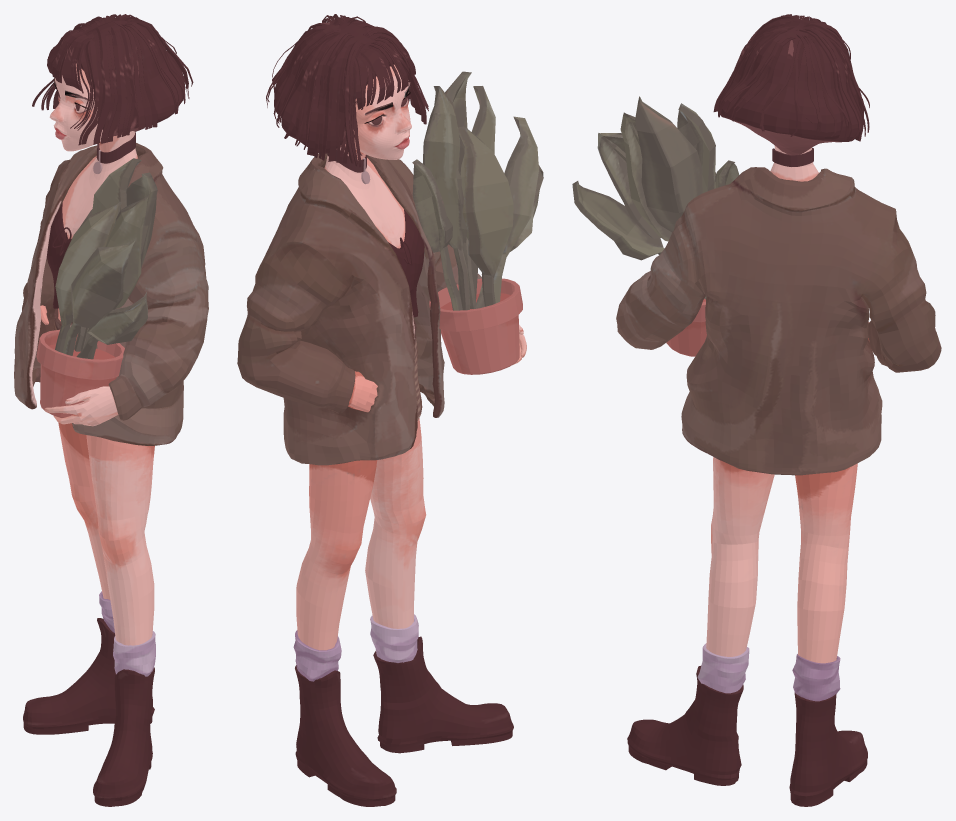
File: matilda.gltf
3 renders of one model, left to right at view 1: azimuth 30°, elevation 25°; view 2: azimuth 150°, elevation 25°; view 3: azimuth 270°, elevation 25°, orthographic. The views are drawn at different scales.
Parts seen in each view (by area): view 1: polySurface80, polySurface74, polySurface87, polySurface86, polySurface67, polySurface68, hairStrands_v2:polySurface28, polySurface66, polySurface85, polySurface72, polySurface62, hairStrands_v2:polySurface8 (+16 smaller); view 2: polySurface80, polySurface74, polySurface87, polySurface86, polySurface66, polySurface67, polySurface69, hairStrands_v2:polySurface28, polySurface85, polySurface68, polySurface63, polySurface78 (+8 smaller); view 3: polySurface80, polySurface74, hairStrands_v2:polySurface28, polySurface87, polySurface86, polySurface102, polySurface62, polySurface68, polySurface72, polySurface77, polySurface78, polySurface69 (+1 smaller).
Part boxes in pixels (x1,y1,x2,y2): polySurface80: (14, 143, 208, 445); polySurface74: (58, 131, 154, 645); polySurface87: (93, 667, 154, 806); polySurface86: (23, 618, 154, 734); polySurface67: (36, 329, 124, 417); polySurface68: (62, 241, 134, 355); hairStrands_v2:polySurface28: (66, 17, 185, 135); polySurface66: (55, 202, 120, 352); polySurface85: (49, 63, 108, 151); polySurface72: (86, 194, 149, 359); polySurface62: (76, 292, 147, 358); hairStrands_v2:polySurface8: (44, 386, 118, 426); polySurface80: (237, 153, 481, 465); polySurface74: (296, 144, 426, 650); polySurface87: (373, 636, 513, 753); polySurface86: (295, 665, 396, 806); polySurface66: (458, 126, 513, 306); polySurface67: (429, 278, 522, 374); polySurface69: (422, 86, 470, 310); hairStrands_v2:polySurface28: (274, 17, 409, 153); polySurface85: (353, 64, 411, 159); polySurface68: (493, 116, 538, 303); polySurface63: (412, 159, 462, 310); polySurface78: (370, 614, 418, 662); polySurface80: (616, 167, 941, 475); polySurface74: (706, 145, 857, 663); hairStrands_v2:polySurface28: (718, 19, 863, 155); polySurface87: (627, 666, 743, 785); polySurface86: (789, 692, 867, 806); polySurface102: (635, 96, 702, 232); polySurface62: (572, 181, 664, 260); polySurface68: (597, 133, 660, 238); polySurface72: (620, 112, 671, 241); polySurface77: (792, 654, 840, 701); polySurface78: (697, 643, 749, 693); polySurface69: (677, 103, 715, 299).
Bounding box in the file's own units: 0.4151 × 1.53 × 0.6711.
Materials: 1 (1 with a texture image).
